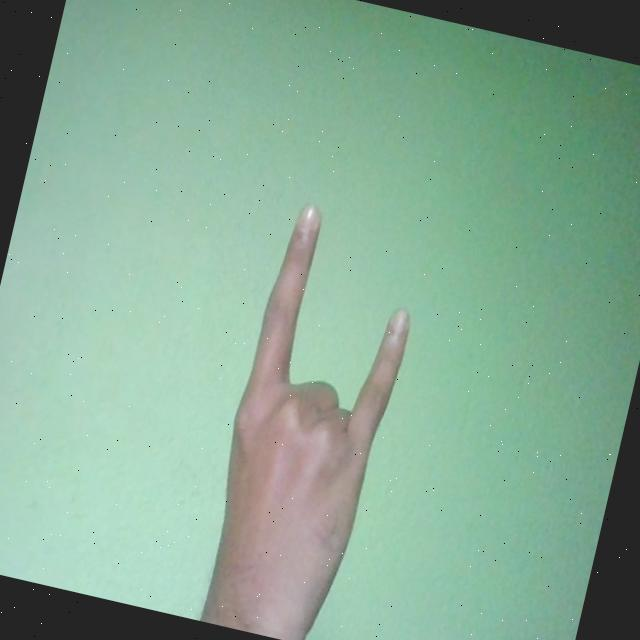open Plam: (188, 195, 432, 640)
